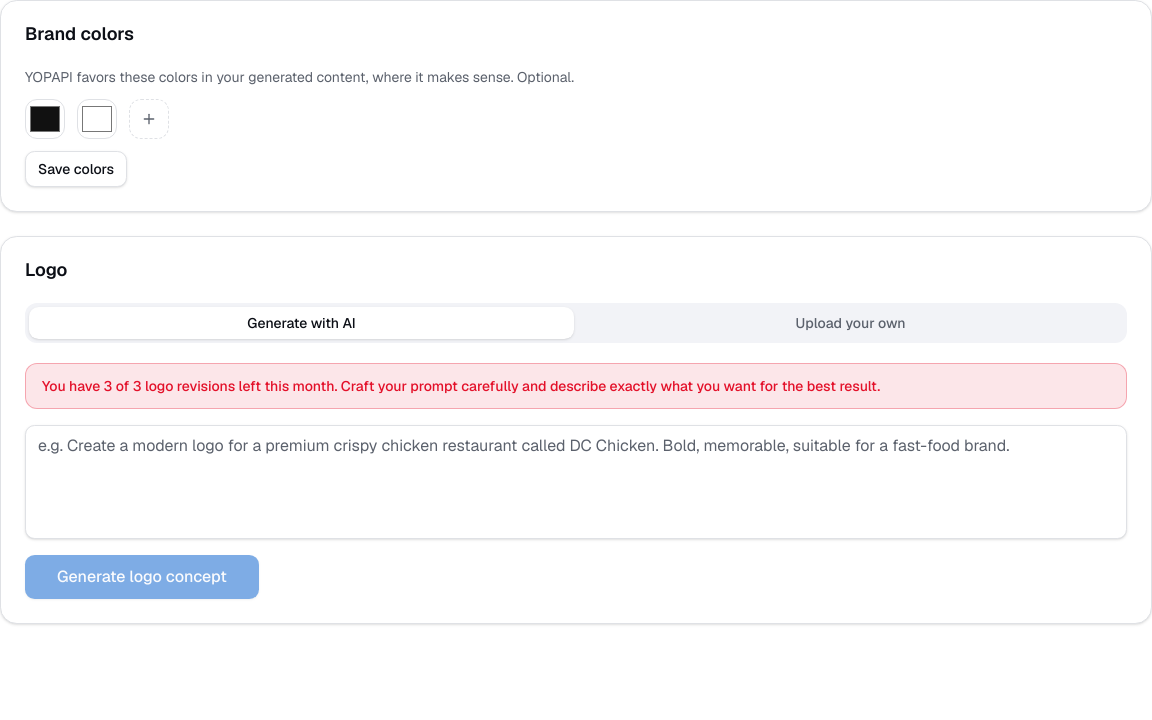
Test: GenerateLogoForm › shows two color swatches by default and lets you add up to six
The width and height of the screenshot is (1152, 720).
Expected: the number of colour fields is 2, [25, 99, 65, 139]; [77, 99, 117, 139]
Step 1. Click the button named "add color" → x=149, y=119, box [129, 99, 169, 139]
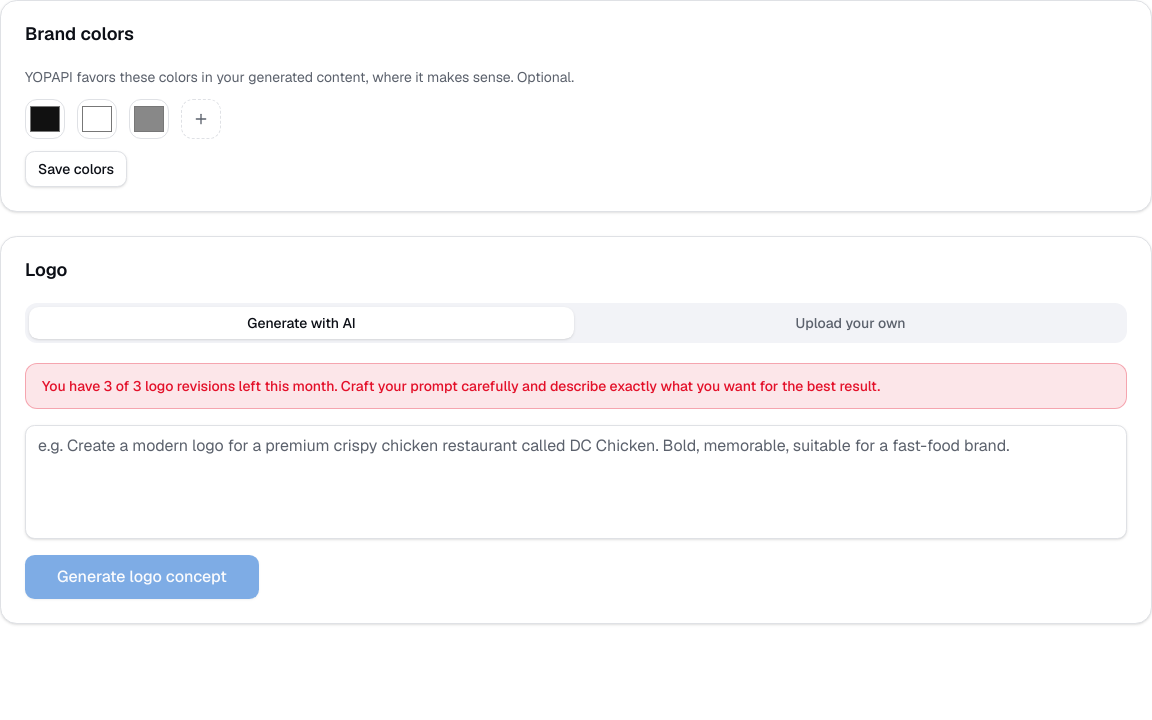
Step 2. Click the button named "add color" → x=201, y=119, box [181, 99, 221, 139]
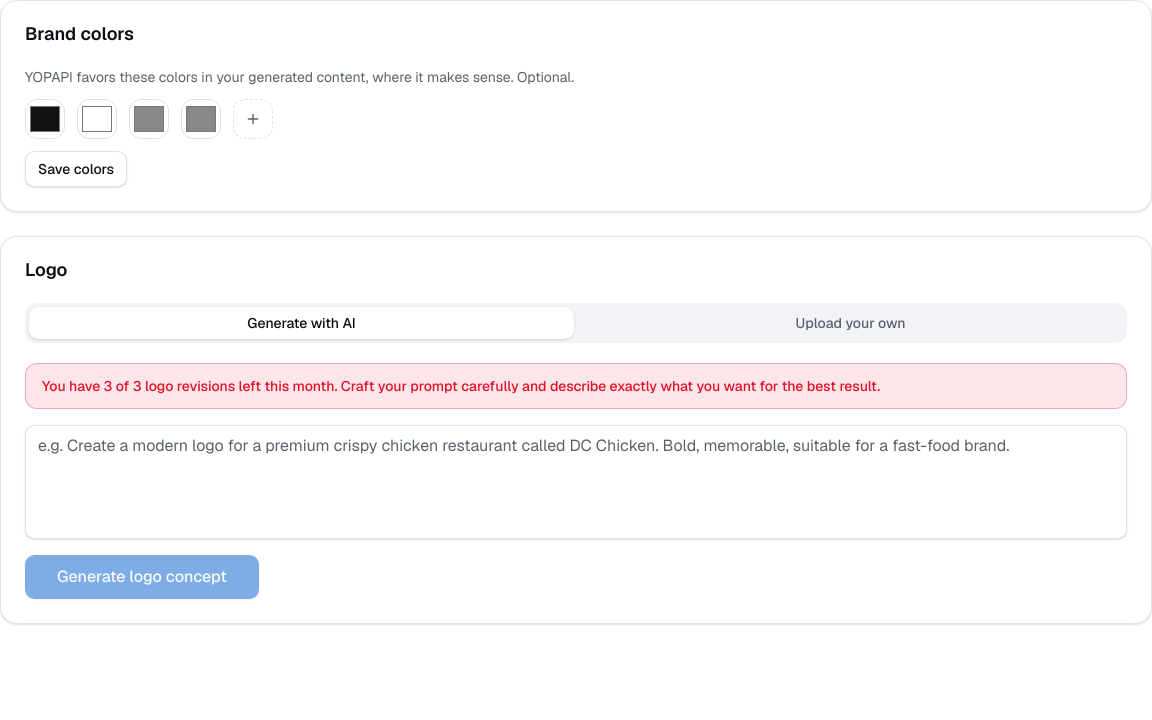
Step 3. Click the button named "add color" → x=253, y=119, box [233, 99, 273, 139]
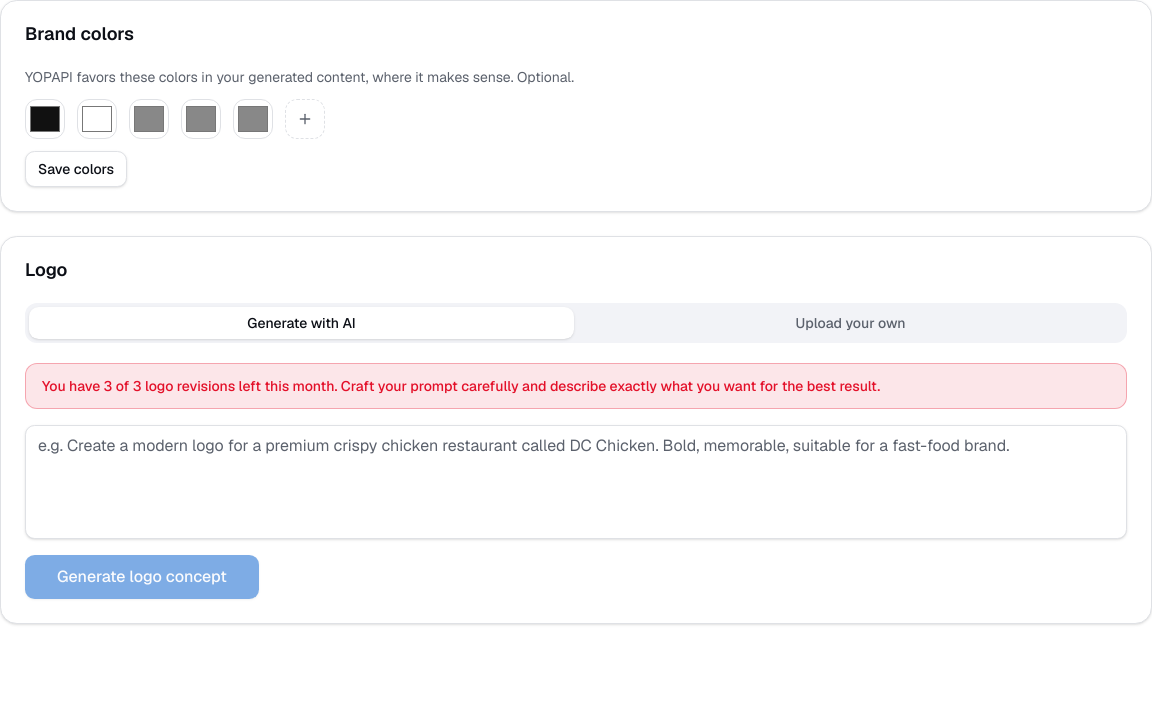
Step 4. Click the button named "add color" → x=305, y=119, box [285, 99, 325, 139]
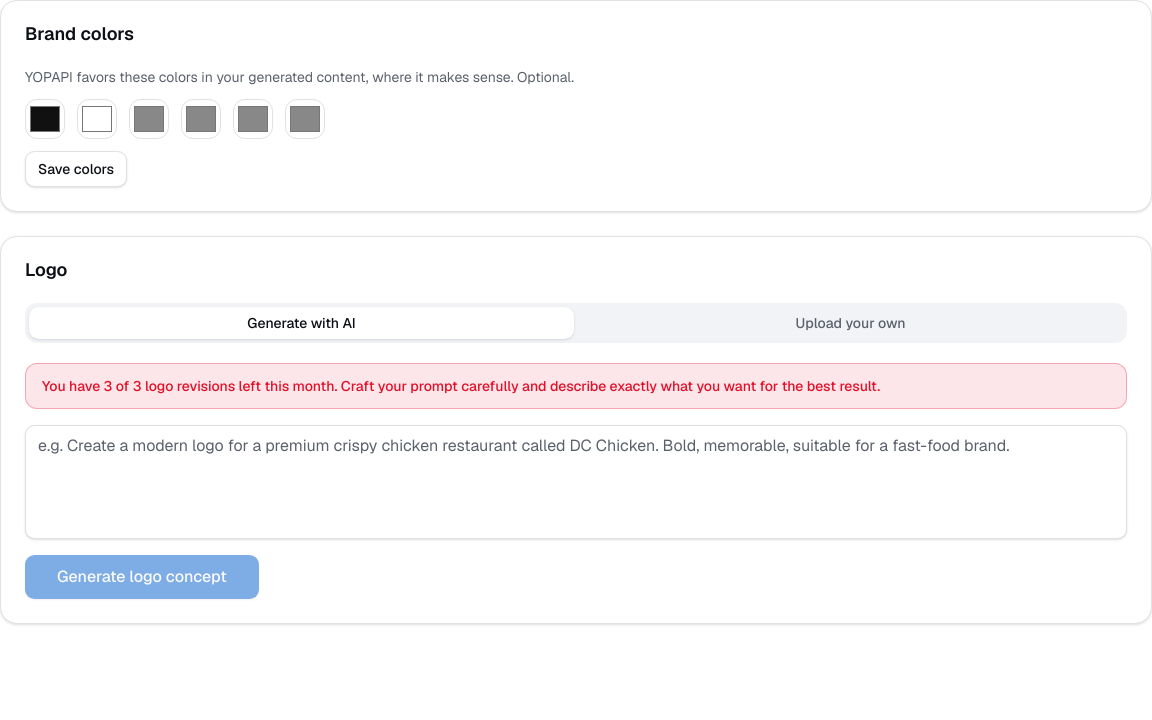
Expected: the number of colour fields is 6, [25, 99, 65, 139]; [77, 99, 117, 139]; [129, 99, 169, 139]; [181, 99, 221, 139]; [233, 99, 273, 139]; [285, 99, 325, 139]
